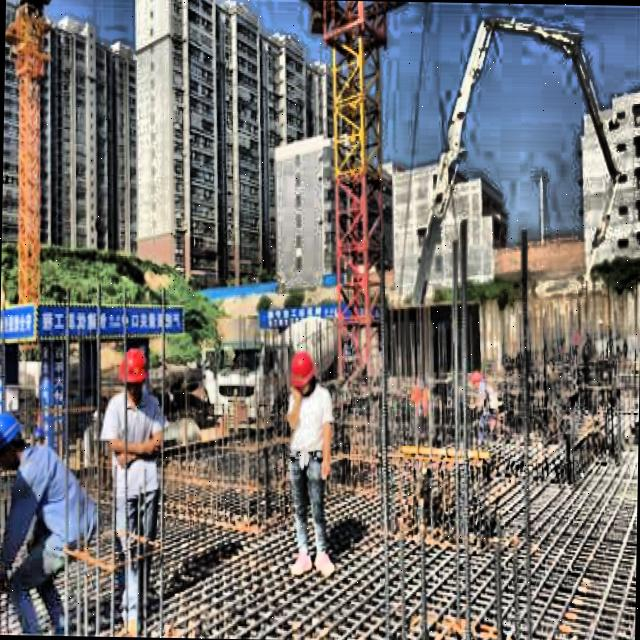helmet: (0, 406, 28, 477), (118, 346, 150, 404), (288, 348, 321, 396)
